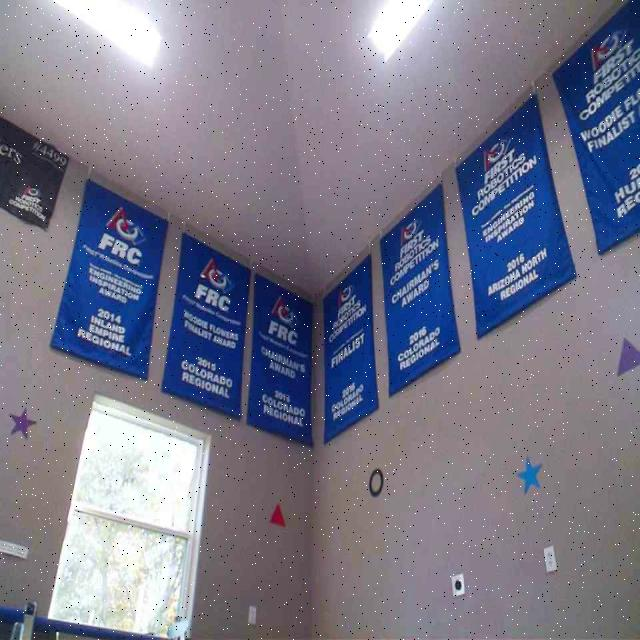ring_black: (368, 468, 383, 496)
star_blue: (516, 455, 541, 494)
star_purple: (10, 406, 36, 438)
triangle_purple: (615, 337, 639, 376)
triangle_red: (268, 502, 286, 526)
